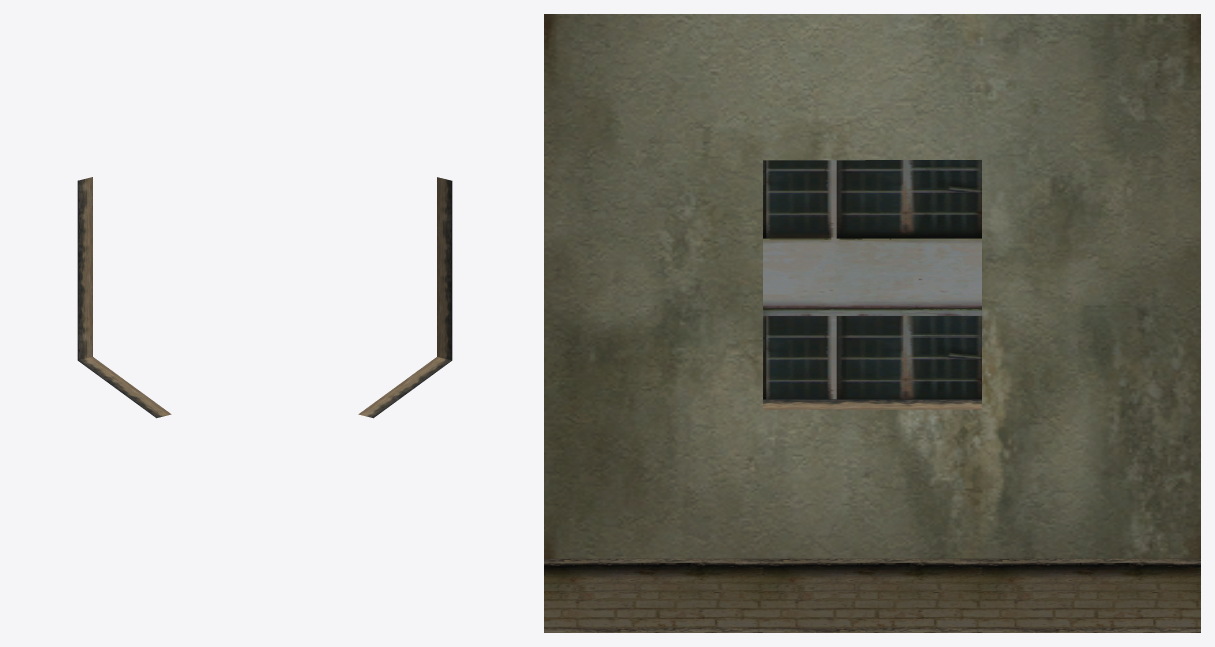
File: M10_Z2_NewBuild01.glb
3 views of the same model, side by side, from view 1: azimuth 30°, elevation 25°; view 2: azimuth 150°, elevation 25°; view 3: azimuth 270°, elevation 25° (orthographic). The views are drawn at different scales.
Visible parts, largest first — view 1: M10_Z2_NEWBUILD01; view 2: M10_Z2_NEWBUILD01; view 3: M10_Z2_NEWBUILD01.
Boxes of the visible parts, x1,y1,x2,y2 form: M10_Z2_NEWBUILD01: (77,177,171,418); M10_Z2_NEWBUILD01: (358,177,452,418); M10_Z2_NEWBUILD01: (544,14,1200,632).
Bounding box in the file's own units: 0.303 × 8.32 × 8.
4 materials, 4 textured.
